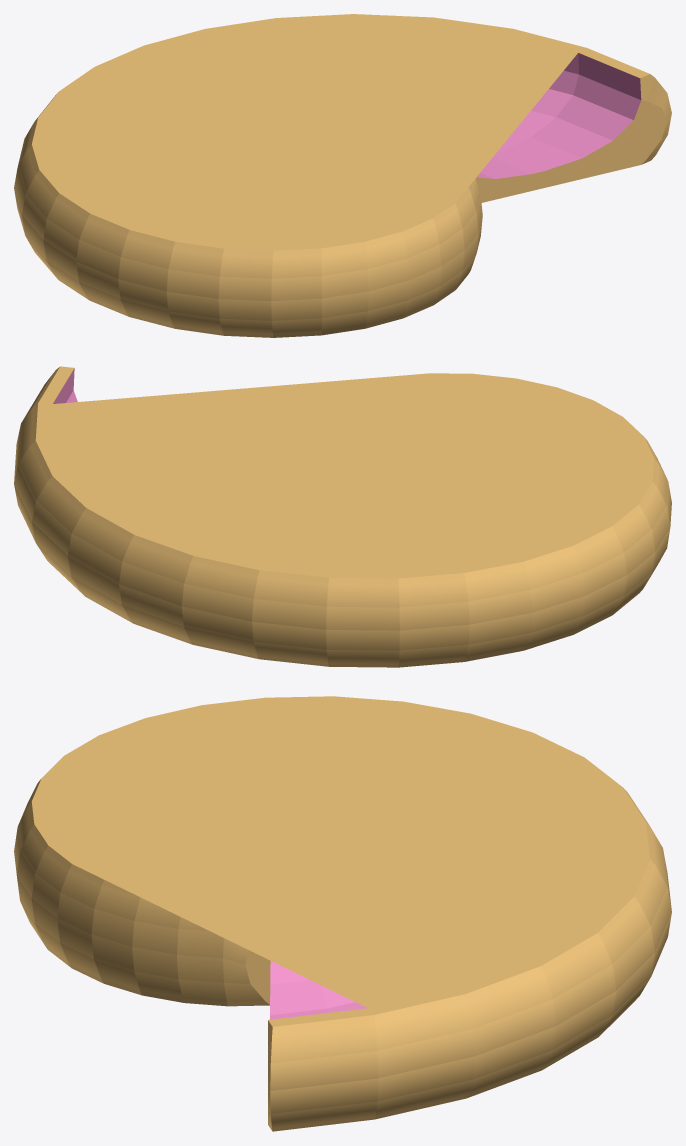
File: seashell_spiral.fbx
3 renders of one model, top to bottom at view 1: azimuth 30°, elevation 25°; view 2: azimuth 150°, elevation 25°; view 3: azimuth 270°, elevation 25°, orthographic. The views are drawn at different scales.
Parts seen in each view (by area): view 1: spiralseashell; view 2: spiralseashell; view 3: spiralseashell.
Boxes of the visible parts, box(x1,y1,x2,y2) form: spiralseashell: box(14, 14, 671, 337); spiralseashell: box(14, 366, 671, 667); spiralseashell: box(14, 696, 671, 1131).
Size of the model in its own units: 8.19 by 6.48 by 1.13.
